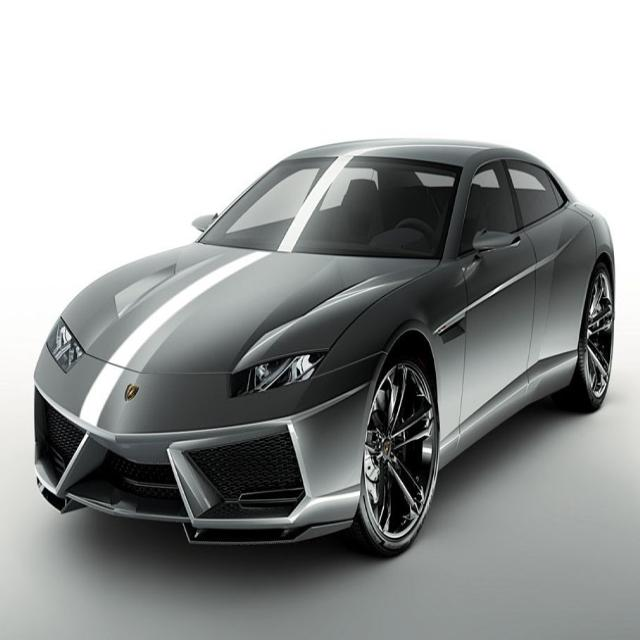front_bumper: (29, 336, 390, 550)
front_glass: (197, 158, 466, 264)
front_left_side_door: (450, 144, 540, 463)
front_left_side_light: (227, 345, 333, 403)
front_left_side_mirror: (470, 228, 521, 261)
front_right_side_light: (41, 307, 87, 375)
front_right_side_mirror: (187, 210, 220, 239)
wheel: (350, 354, 440, 555), (558, 258, 614, 414)
